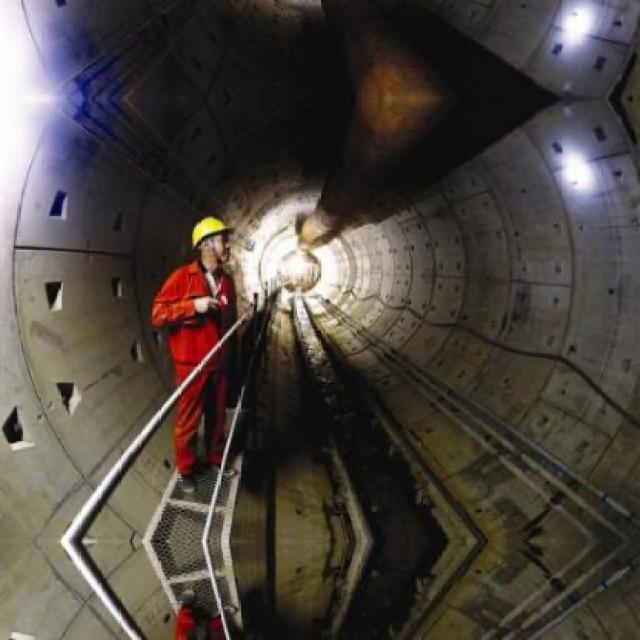helmet: (190, 210, 236, 271)
